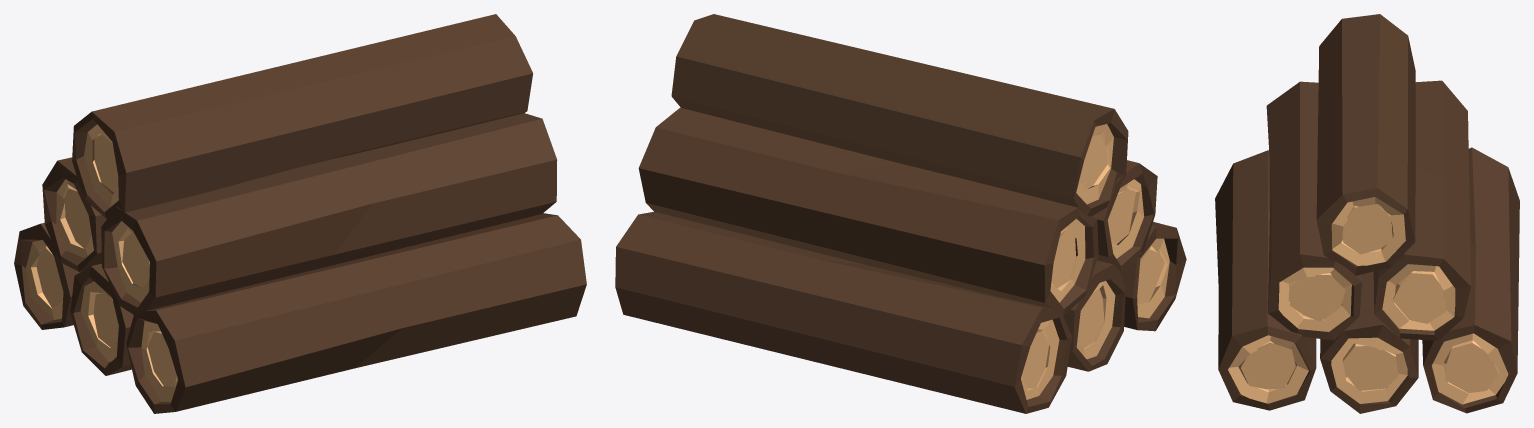
File: cc_wood_logs_v2.fbx
The picture shows the model from 3 angles, left to right: view 1: azimuth 30°, elevation 25°; view 2: azimuth 150°, elevation 25°; view 3: azimuth 270°, elevation 25°; orthographic projection. The views are drawn at different scales.
Parts seen in each view (by area): view 1: Cylinder; view 2: Cylinder; view 3: Cylinder.
Part boxes in pixels (x1,y1,x2,y2): Cylinder: (14,14,586,413); Cylinder: (615,14,1186,413); Cylinder: (1215,14,1519,413).
Bounding box in the file's own units: 444 × 267 × 323.
